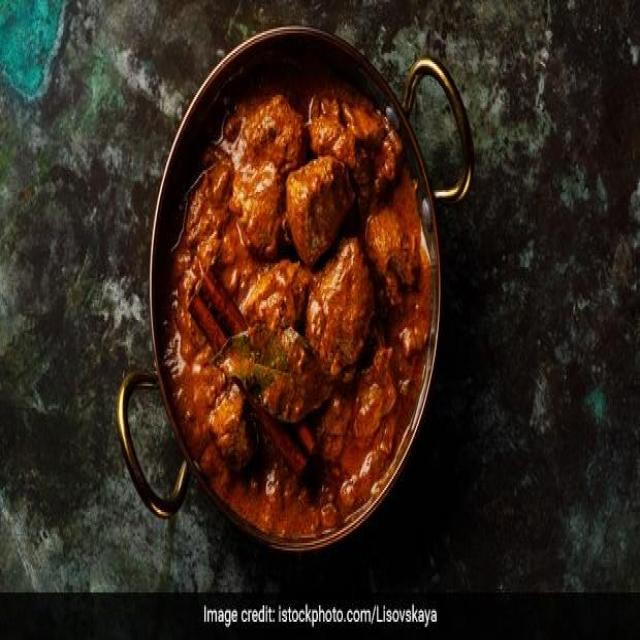chicken: (192, 130, 411, 512)
